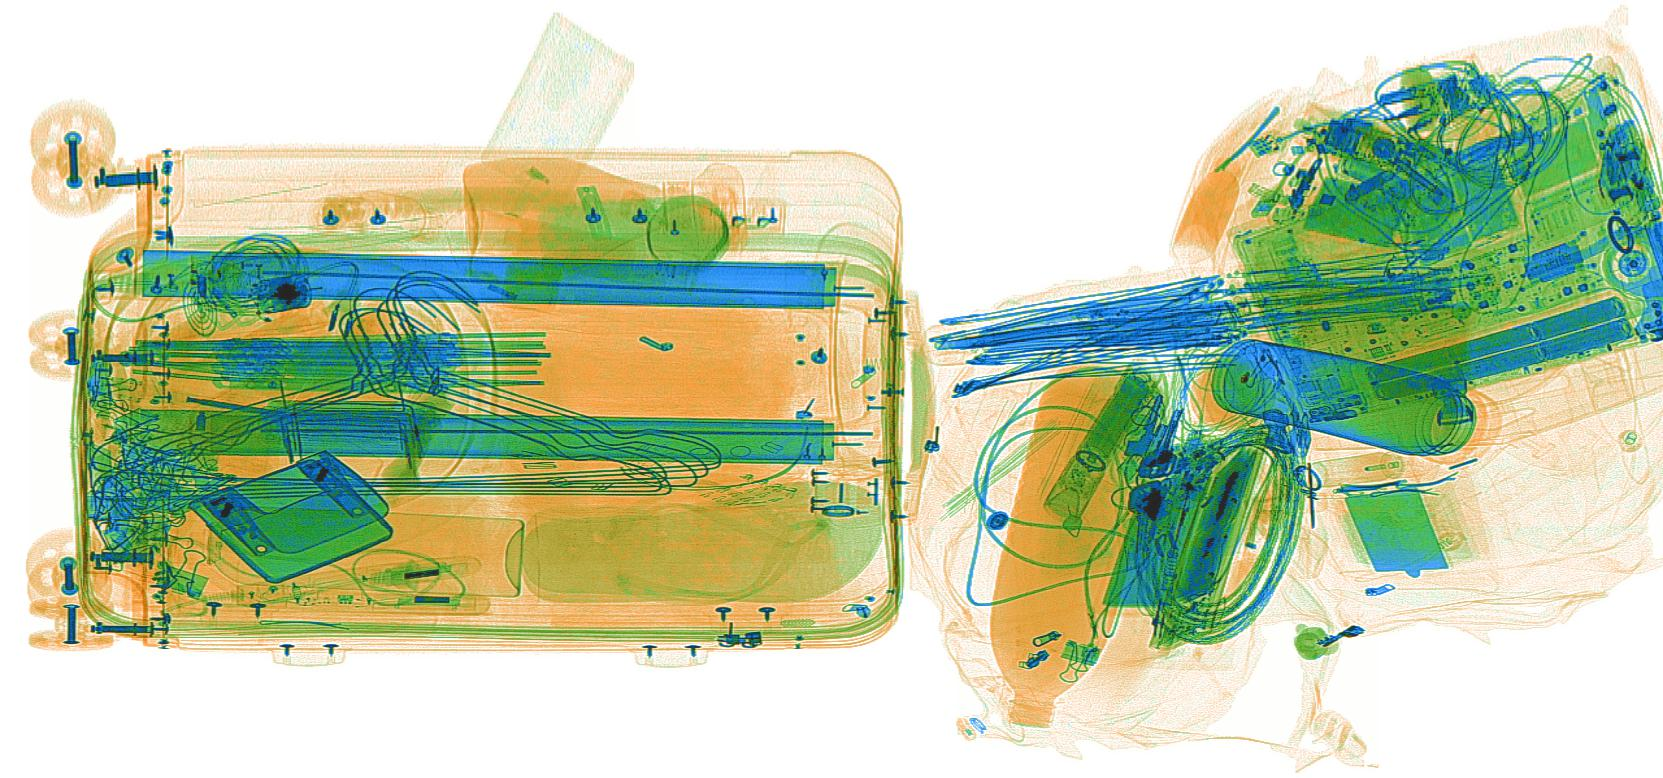battery: (1075, 373, 1149, 474), (1340, 154, 1411, 204)
pressure: (173, 503, 526, 598), (1300, 450, 1416, 493)
